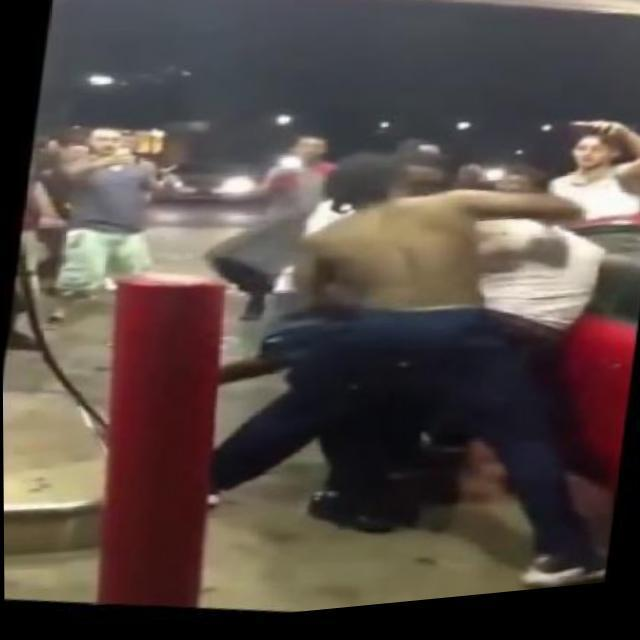fight: (252, 133, 614, 539)
